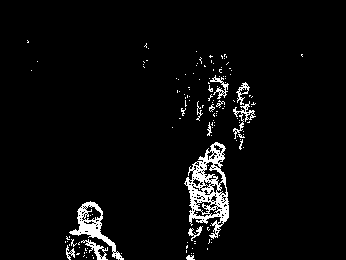person: (186, 139, 230, 260), (63, 200, 123, 260), (230, 80, 258, 151), (206, 69, 229, 136)
